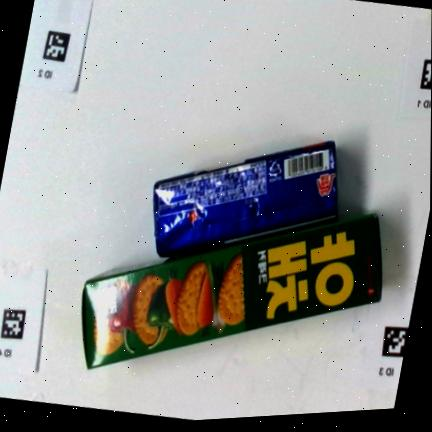cracker_ace: (153, 142, 337, 258)
cracker_vege: (81, 211, 381, 371)
